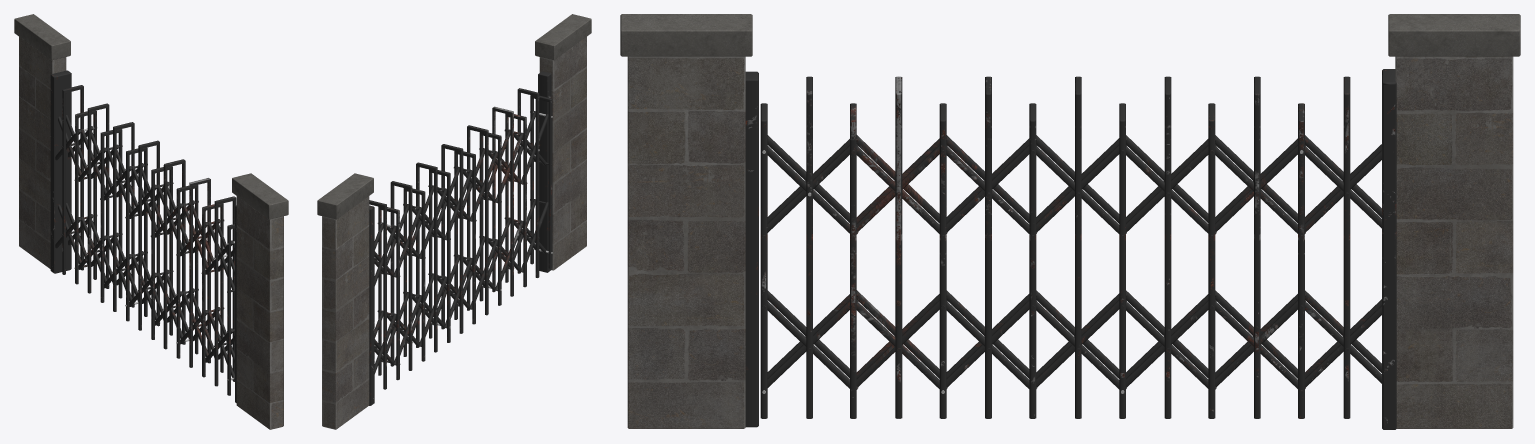
File: SM_Fence_01_CarGate.fbx
3 renders of one model, left to right at view 1: azimuth 30°, elevation 25°; view 2: azimuth 150°, elevation 25°; view 3: azimuth 270°, elevation 25°, orthographic. The views are drawn at different scales.
Visible parts, largest first — view 1: SM_Fence_01_CarGate_LOD0; view 2: SM_Fence_01_CarGate_LOD0; view 3: SM_Fence_01_CarGate_LOD0.
Part boxes in pixels (x1,y1,x2,y2): SM_Fence_01_CarGate_LOD0: (14,14,288,429); SM_Fence_01_CarGate_LOD0: (317,14,591,429); SM_Fence_01_CarGate_LOD0: (620,14,1520,429).
Bounding box in the file's own units: 15.02 × 305 × 150.
